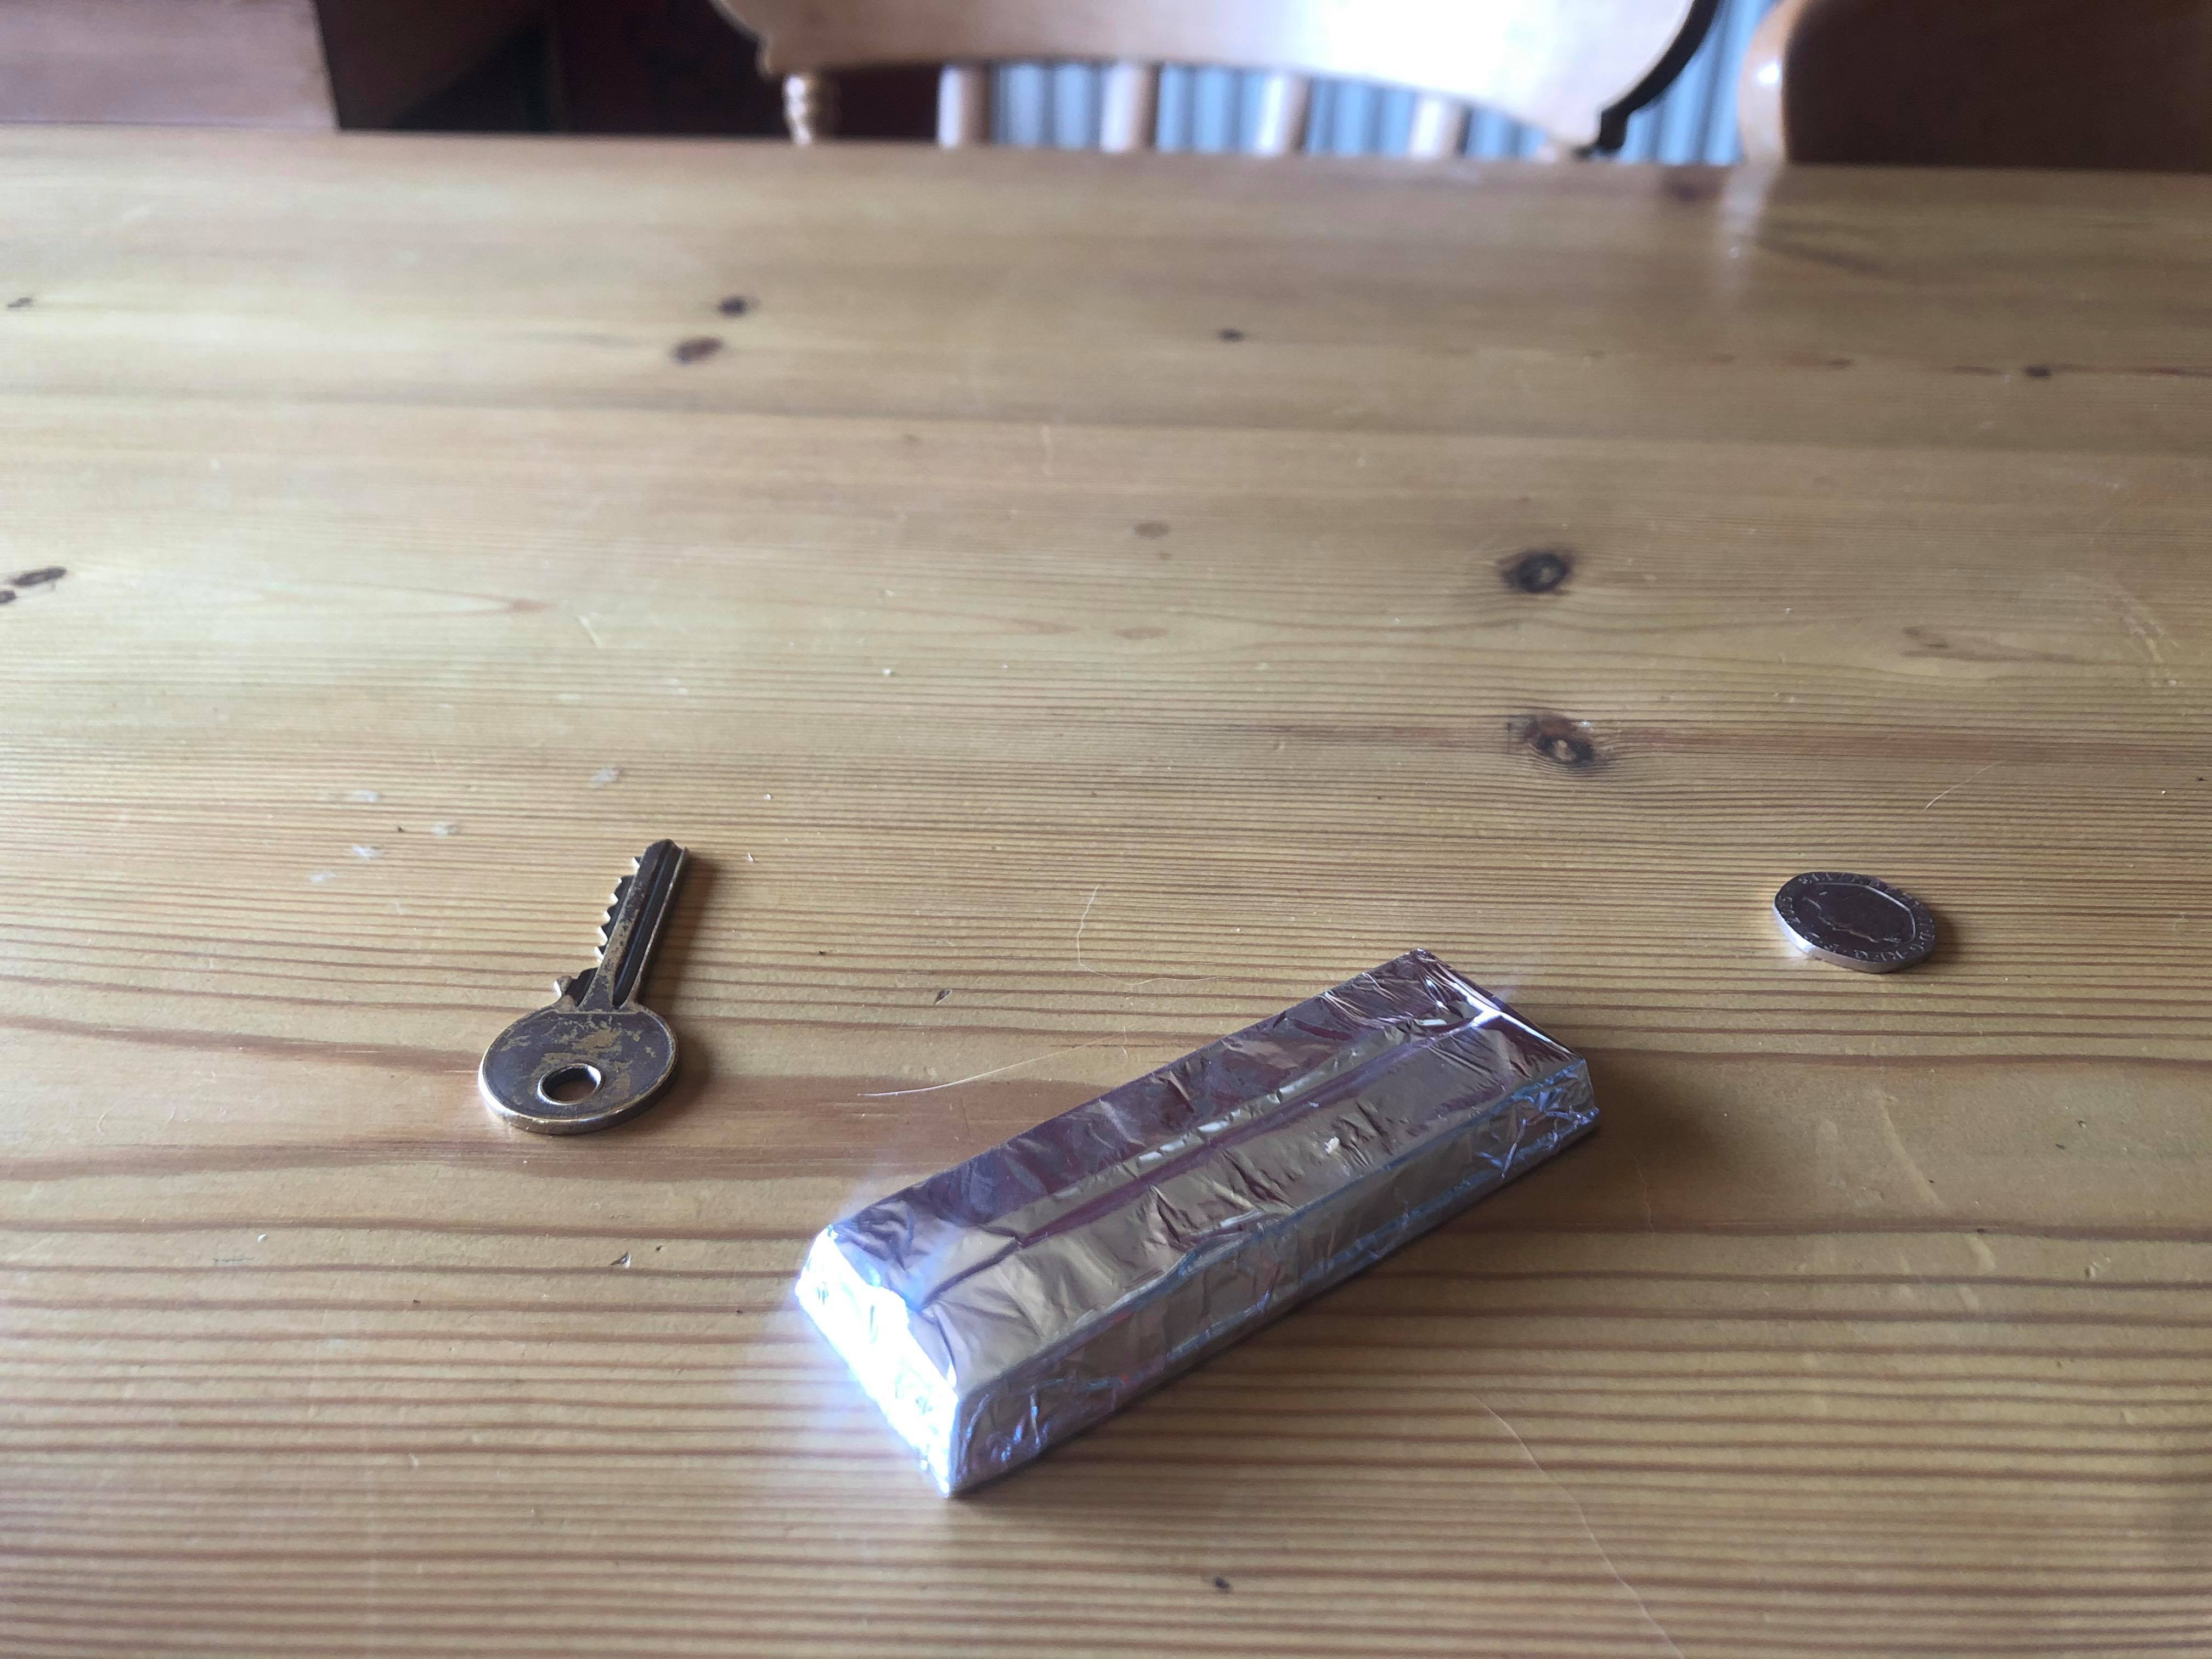Coin: (1761, 859, 1942, 986)
Foil: (789, 938, 1604, 1511)
Key: (470, 831, 707, 1131)
